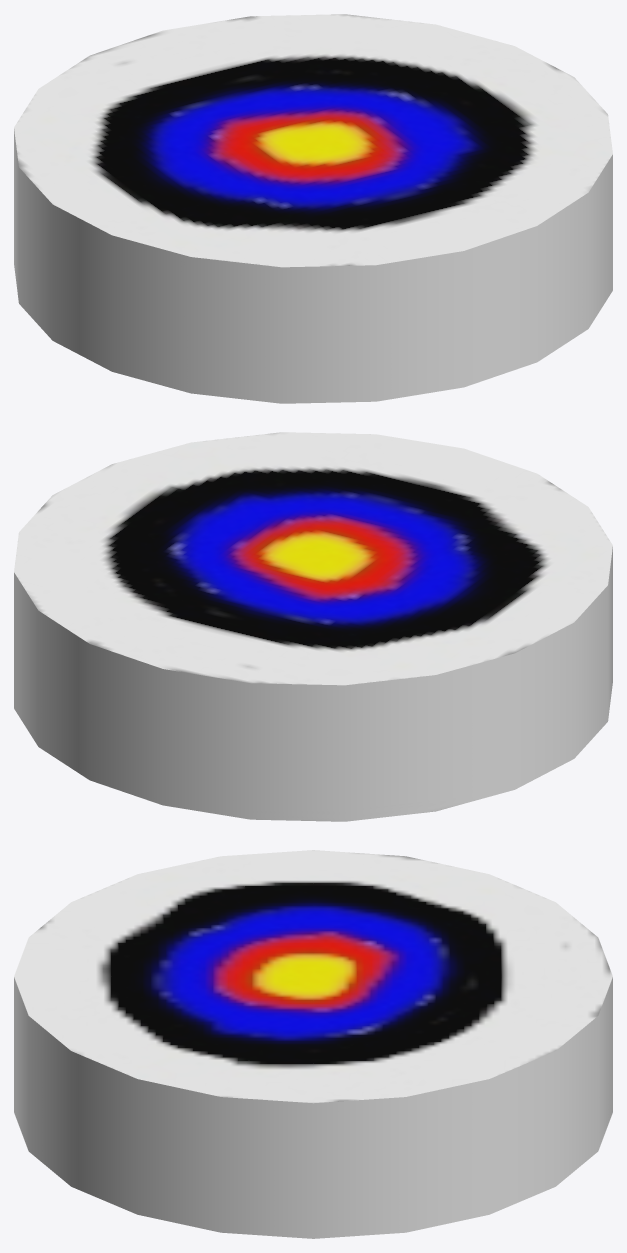
The model's file is Target.fbx.
3 views of the same model, one above another, from view 1: azimuth 30°, elevation 25°; view 2: azimuth 150°, elevation 25°; view 3: azimuth 270°, elevation 25° (orthographic).
Visible parts, largest first — view 1: pCylinder1; view 2: pCylinder1; view 3: pCylinder1.
Part boxes in pixels (<box>): pCylinder1: <box>14,14,612,403</box>; pCylinder1: <box>14,432,612,821</box>; pCylinder1: <box>14,850,612,1238</box>.
Size of the model in its own units: 4 by 1 by 4.
Materials: 1 (1 with a texture image).
